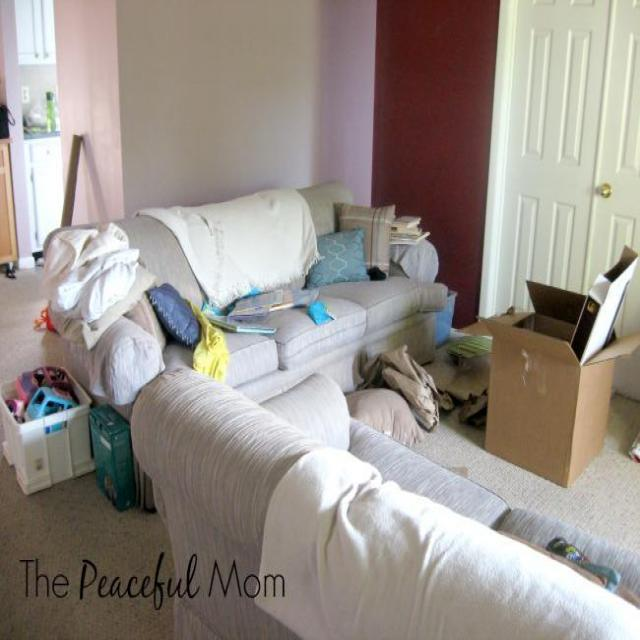couch: (130, 366, 640, 640), (42, 178, 448, 511)
